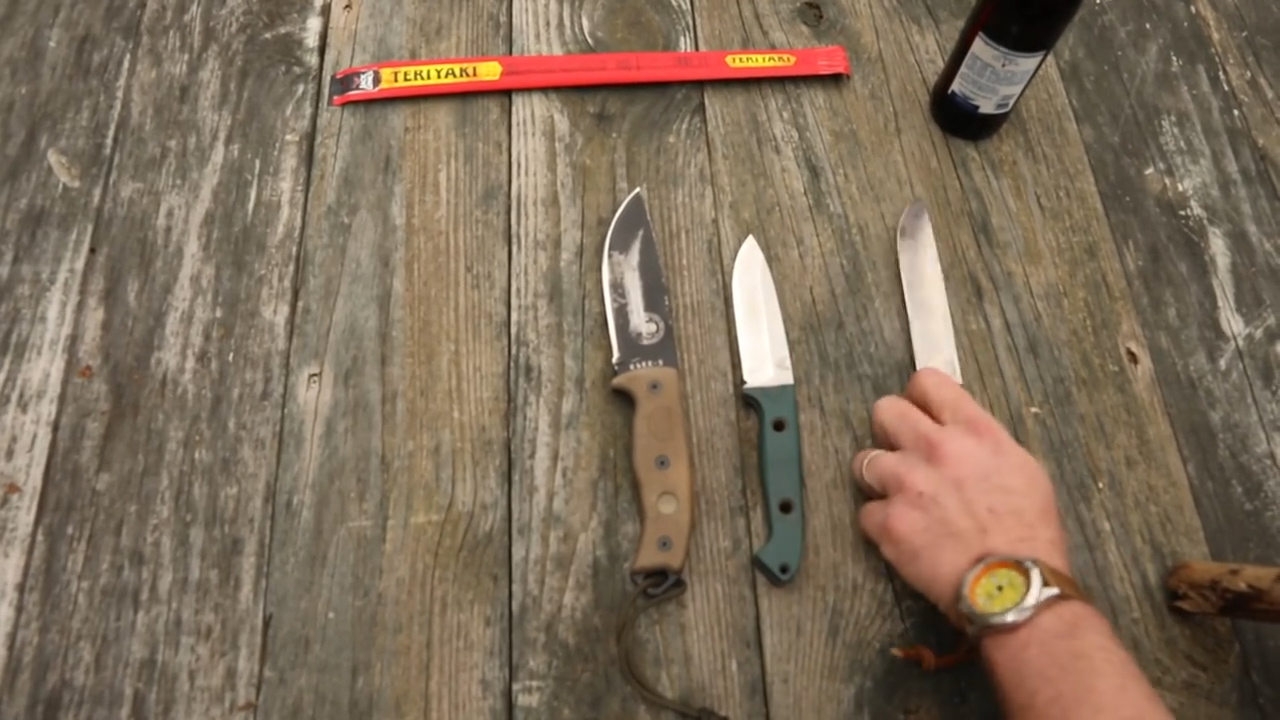knife: (850, 176, 1058, 491), (585, 166, 700, 428), (716, 211, 820, 438)
